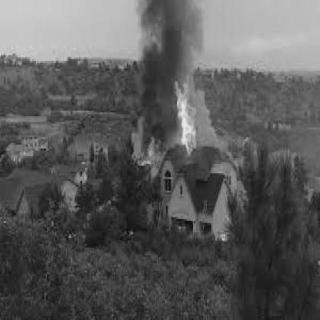Fire: (171, 76, 198, 157), (140, 135, 162, 177)
Smoke: (135, 1, 173, 130), (178, 4, 204, 58)
